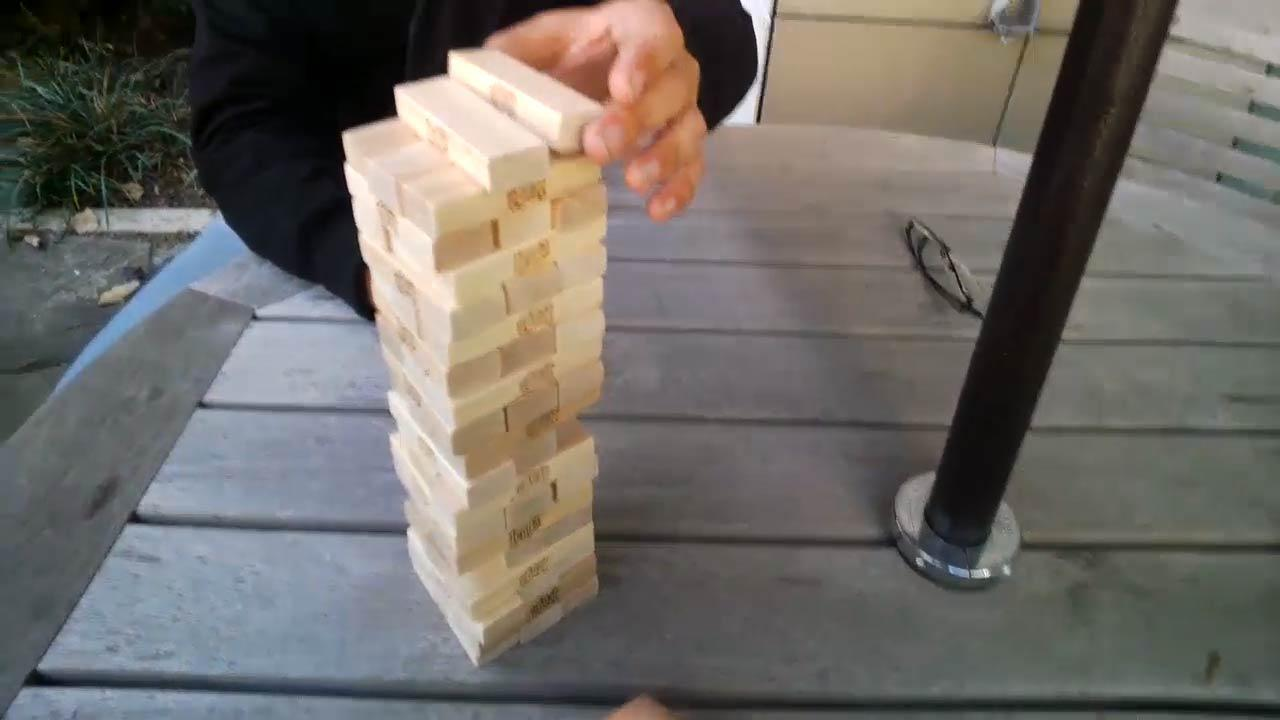hand: (481, 1, 708, 222)
